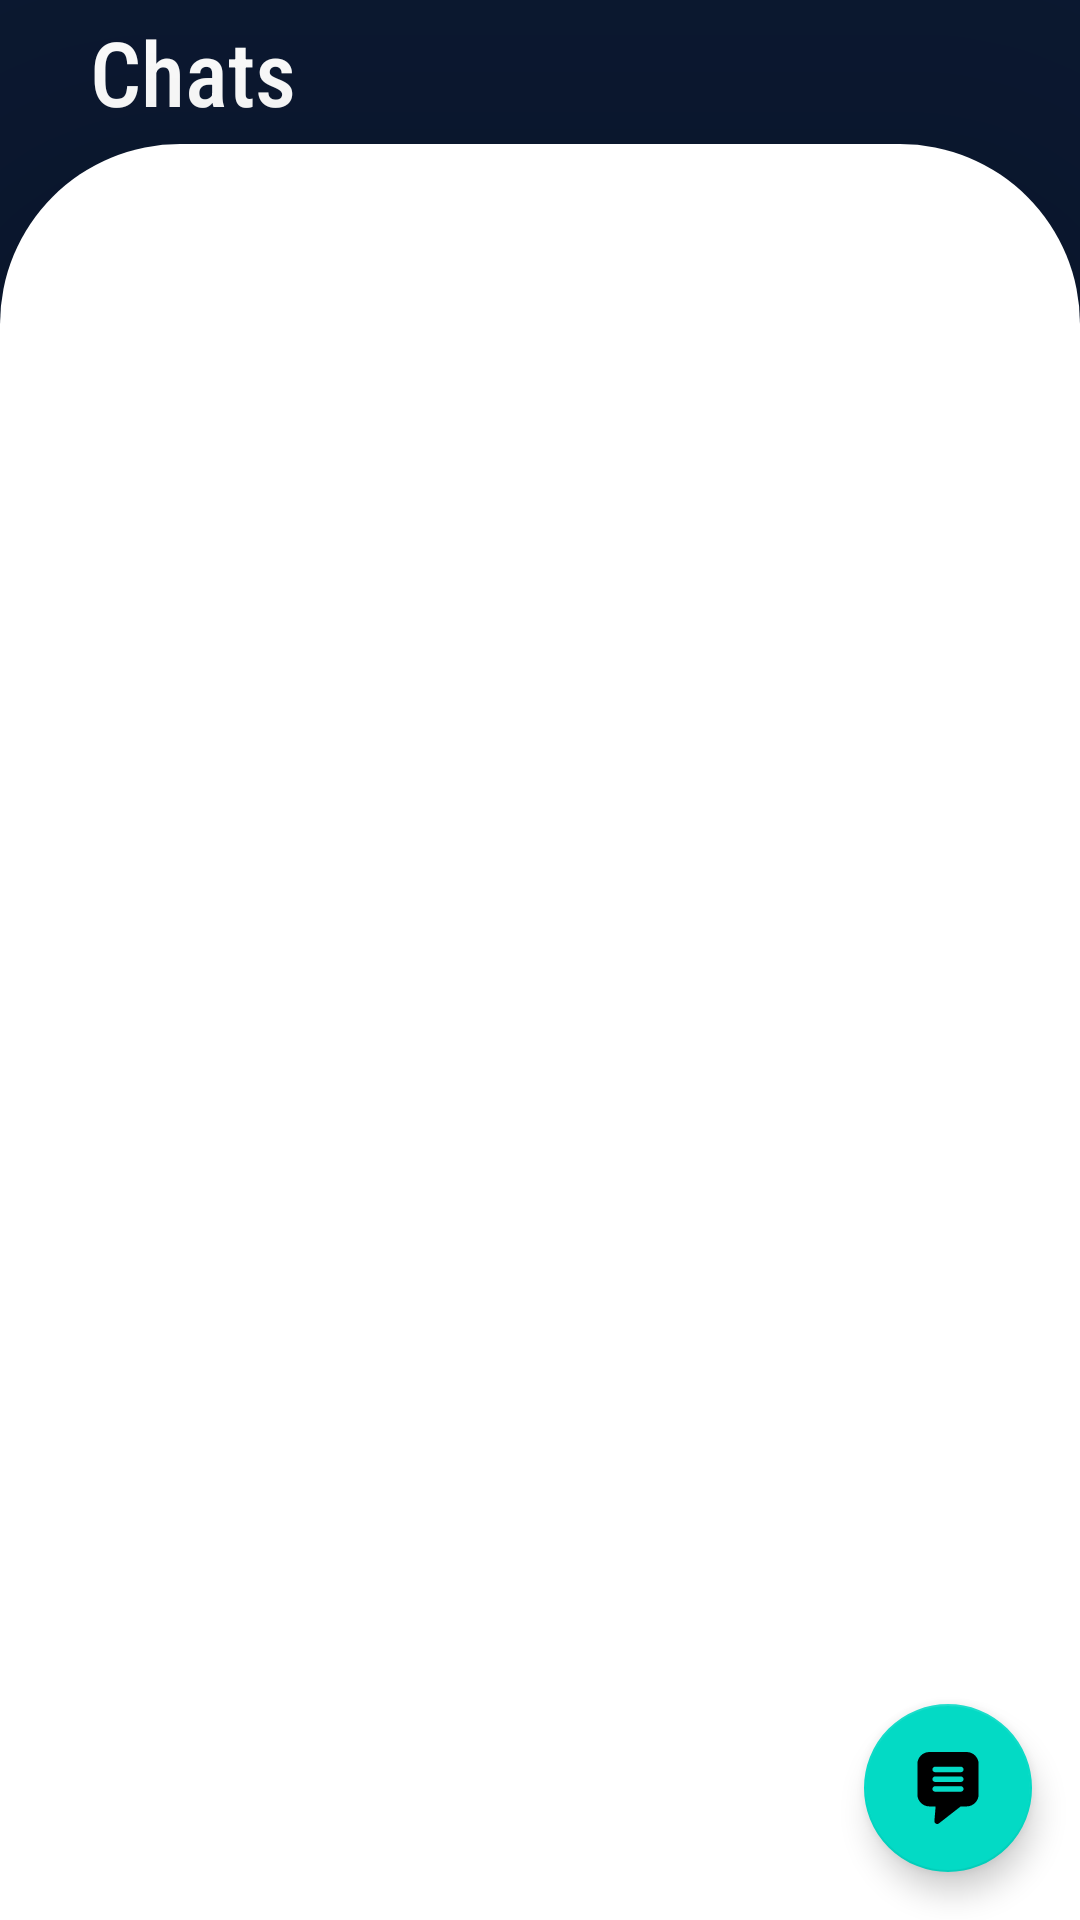

Icon bounding boxes for this 1080×1920 phone screenshot, format (left=x1, top=y1, right=x2, bottom=y2):
chat communication: (left=864, top=1704, right=1032, bottom=1872)
